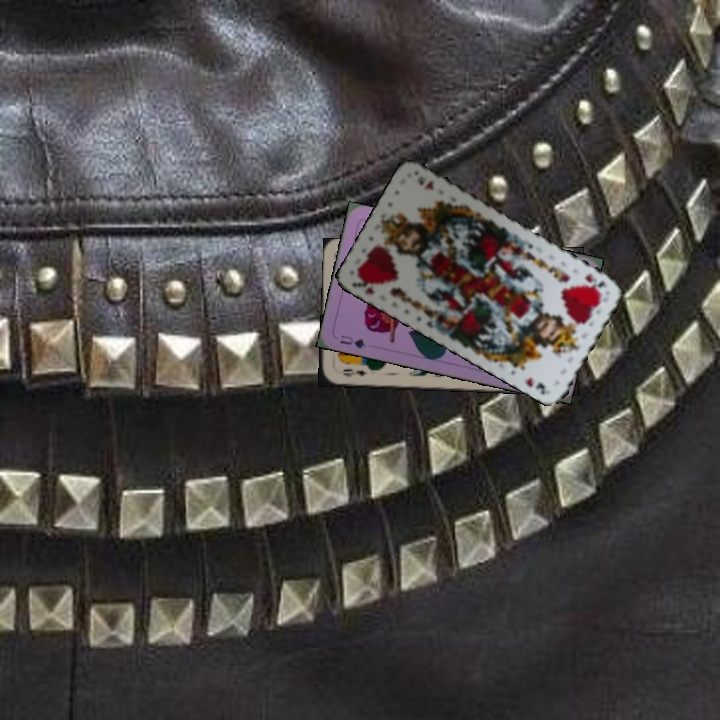EO: (339, 365, 370, 379)
GU: (336, 331, 368, 351)
HK: (348, 270, 380, 297), (581, 270, 610, 290)
